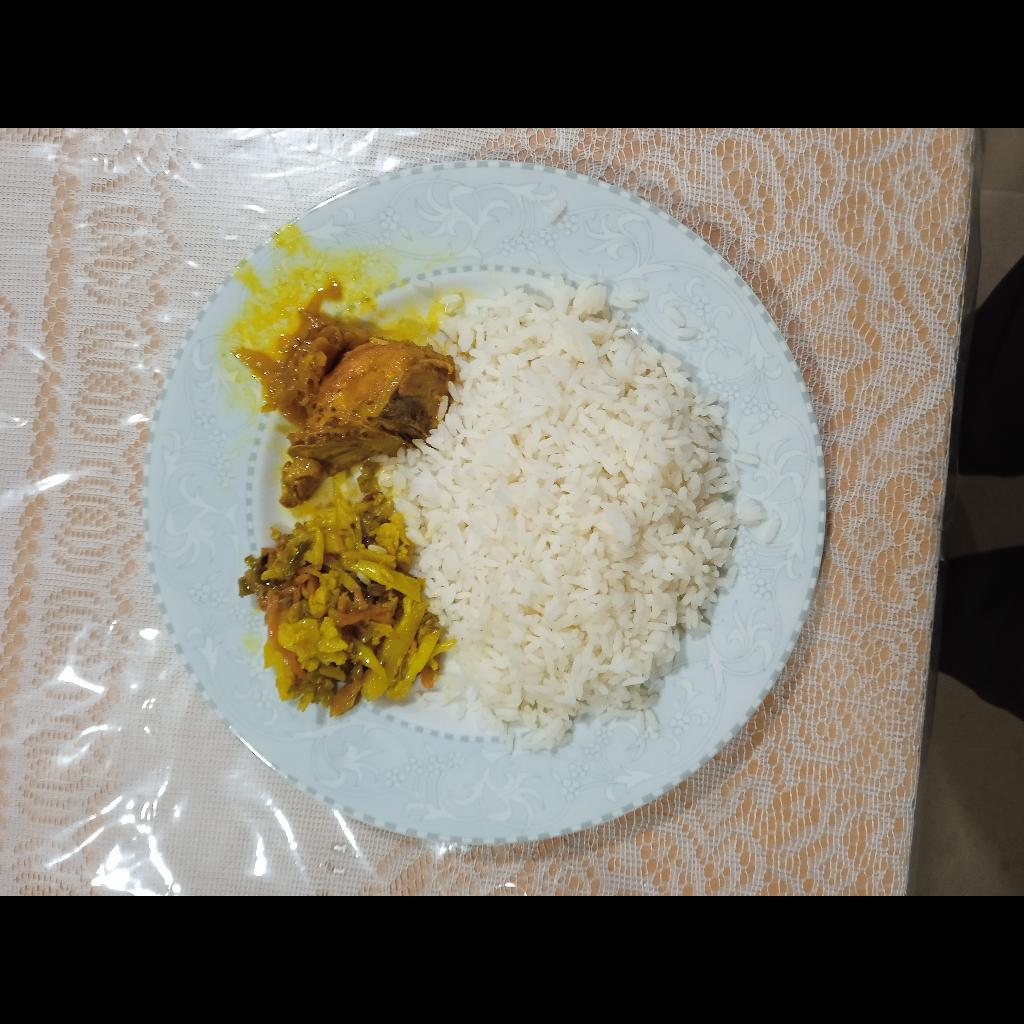chicken: (278, 340, 456, 508)
rice: (386, 274, 764, 757)
vegetable: (236, 463, 457, 717)
